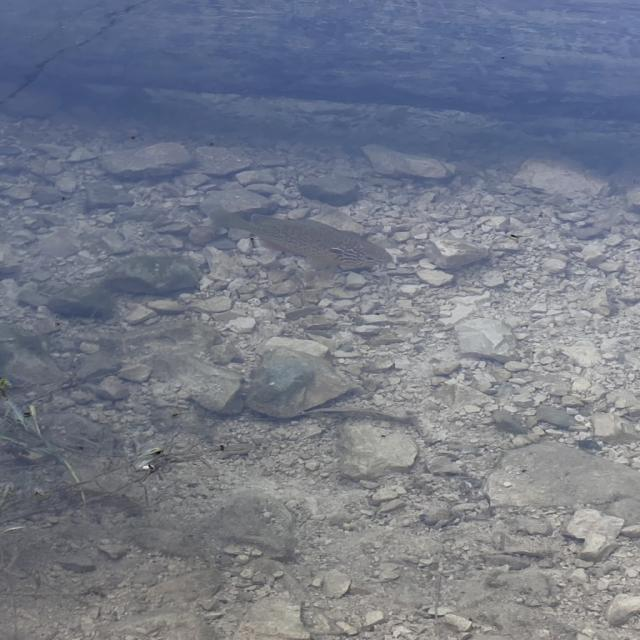Gunes Levregi: (204, 205, 394, 275)
